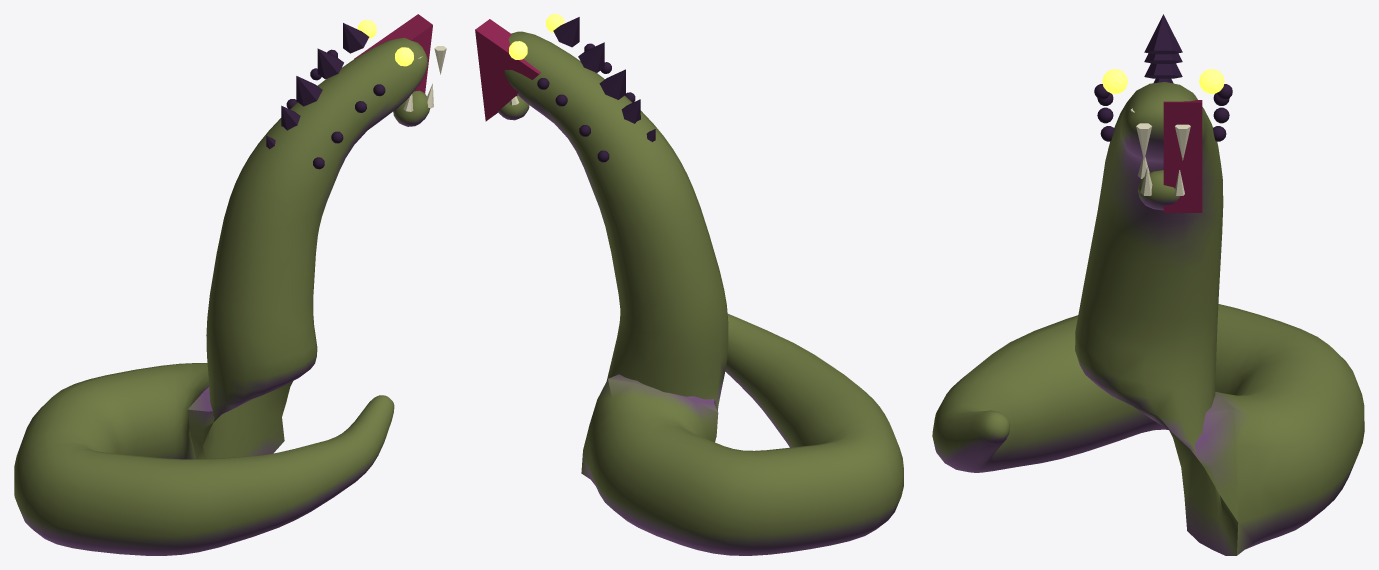
Rendered from lambton-worm.glb.
3 views of the same model, side by side, from view 1: azimuth 30°, elevation 25°; view 2: azimuth 150°, elevation 25°; view 3: azimuth 270°, elevation 25° (orthographic). The views are drawn at different scales.
Visible parts, largest first — view 1: lambton-worm.001; view 2: lambton-worm.001; view 3: lambton-worm.001.
Part boxes in pixels (box(x1,y1,x2,y2)): lambton-worm.001: box(14, 14, 446, 555); lambton-worm.001: box(475, 14, 903, 555); lambton-worm.001: box(932, 14, 1364, 555).
Size of the model in its own units: 1.92 by 2.03 by 1.34.
